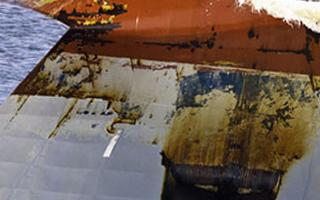rust: (177, 65, 312, 174), (12, 29, 172, 95), (187, 25, 320, 52)
